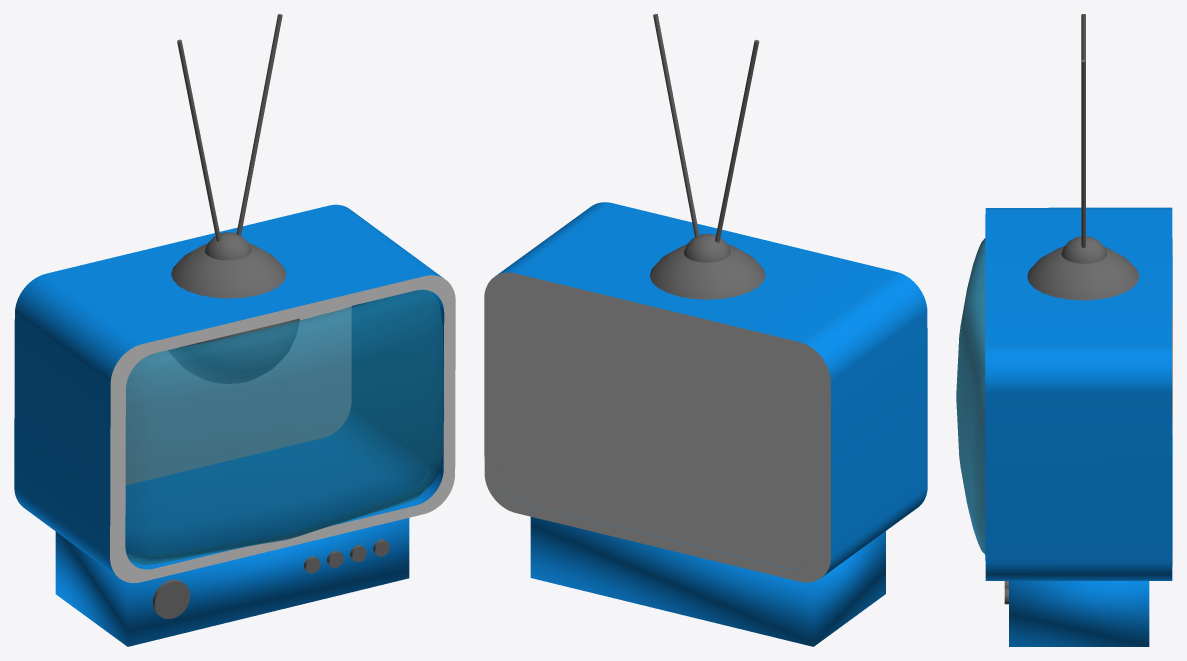
3 renders of one model, left to right at view 1: azimuth 30°, elevation 25°; view 2: azimuth 150°, elevation 25°; view 3: azimuth 270°, elevation 25°, orthographic. The views are drawn at different scales.
Visible parts, largest first — view 1: Extrude_NURBS, Extrude_NURBS_2, Cap_1, Cube, Cap_2_2, Sphere, Cylinder_1, Cylinder_2, Cylinder, Sphere_1; view 2: Cap_2, Extrude_NURBS, Cube, Cap_1_2, Sphere, Cylinder_1, Cylinder, Sphere_1; view 3: Extrude_NURBS, Cube, Extrude_NURBS_2, Sphere, Sphere_1, Cylinder_1.
Part boxes in pixels (bbox=[...]): Extrude_NURBS: bbox=[14, 204, 444, 576]; Extrude_NURBS_2: bbox=[125, 289, 443, 565]; Cap_1: bbox=[126, 306, 351, 484]; Cube: bbox=[55, 518, 409, 646]; Cap_2_2: bbox=[110, 275, 455, 582]; Sphere: bbox=[168, 243, 299, 383]; Cylinder_1: bbox=[236, 14, 282, 236]; Cylinder_2: bbox=[152, 579, 190, 618]; Cylinder: bbox=[177, 39, 220, 241]; Sphere_1: bbox=[205, 232, 251, 260]; Cap_2: bbox=[491, 282, 815, 568]; Extrude_NURBS: bbox=[496, 202, 927, 576]; Cube: bbox=[530, 517, 885, 646]; Cap_1_2: bbox=[484, 272, 830, 582]; Sphere: bbox=[649, 244, 765, 299]; Cylinder_1: bbox=[653, 14, 699, 237]; Cylinder: bbox=[715, 39, 759, 242]; Sphere_1: bbox=[683, 233, 730, 262]; Extrude_NURBS: bbox=[985, 207, 1172, 580]; Cube: bbox=[1009, 581, 1149, 646]; Extrude_NURBS_2: bbox=[956, 238, 985, 554]; Sphere: bbox=[1027, 246, 1139, 300]; Sphere_1: bbox=[1061, 236, 1106, 263]; Cylinder_1: bbox=[1081, 59, 1085, 247].
Bounding box in the file's own units: 333 × 513 × 185.
